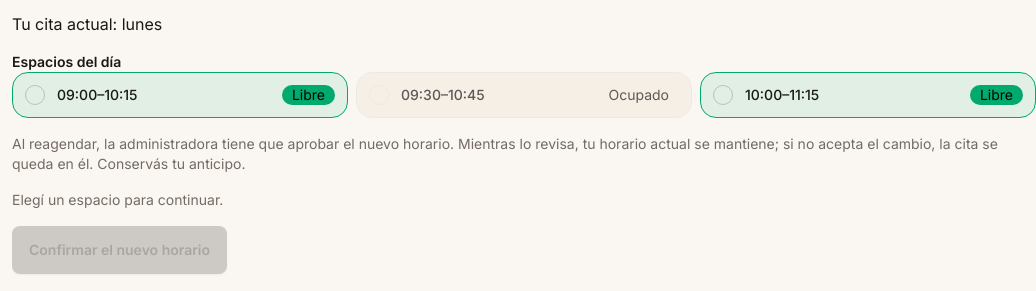
Test: RescheduleForm › confirmar manda la cita, el horario elegido y el estado que vio la clienta
Click the radio button labelled "09:00–10:15 Libre": (35, 95) [25, 85, 45, 105]
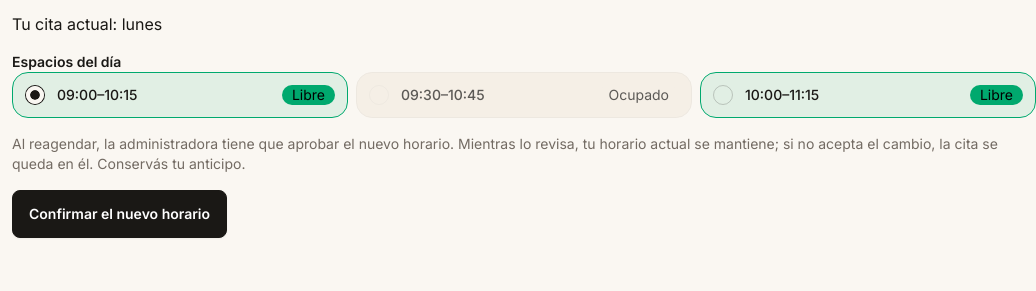
Click the button "Confirmar el nuevo horario": (120, 214) [12, 190, 227, 238]
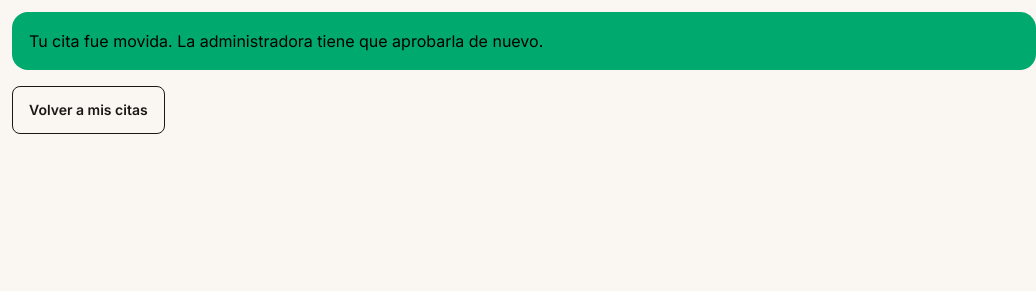
Now the message reads "Tu cita fue movida. La administradora tiene que aprobarla de nuevo.", box [29, 31, 543, 51]
Now the radio button is gone
Now the text "Tu cita actual: lunes" is gone
